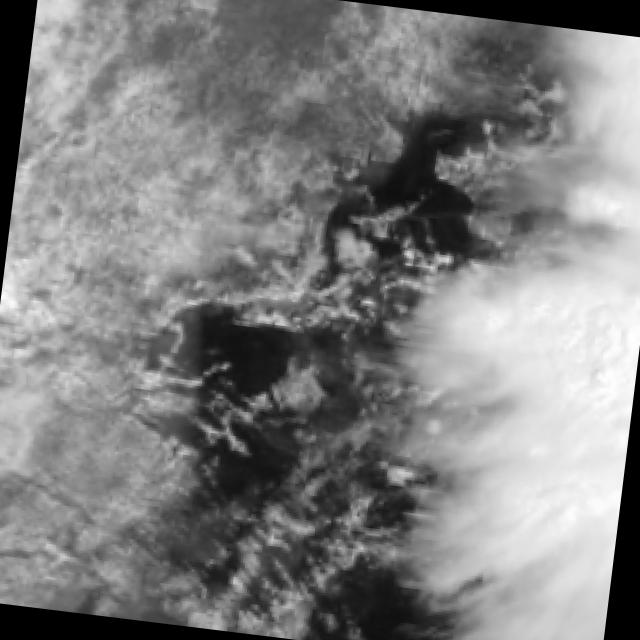CB: (507, 289, 640, 614)
